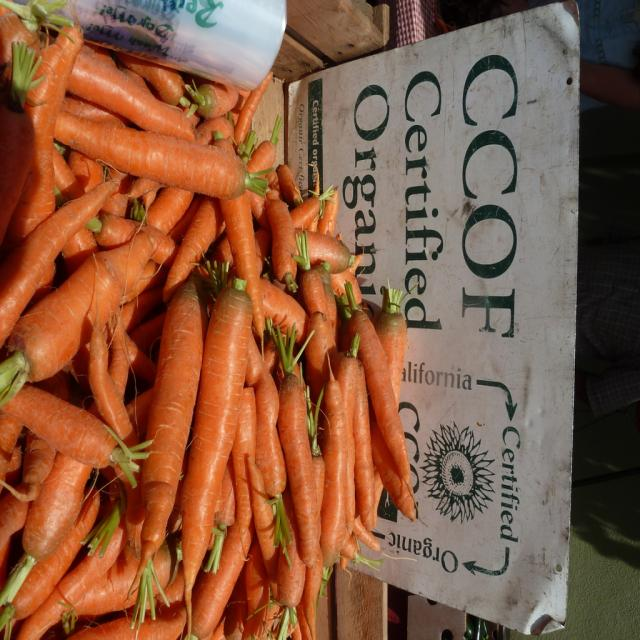Carrot: (178, 270, 259, 607)
